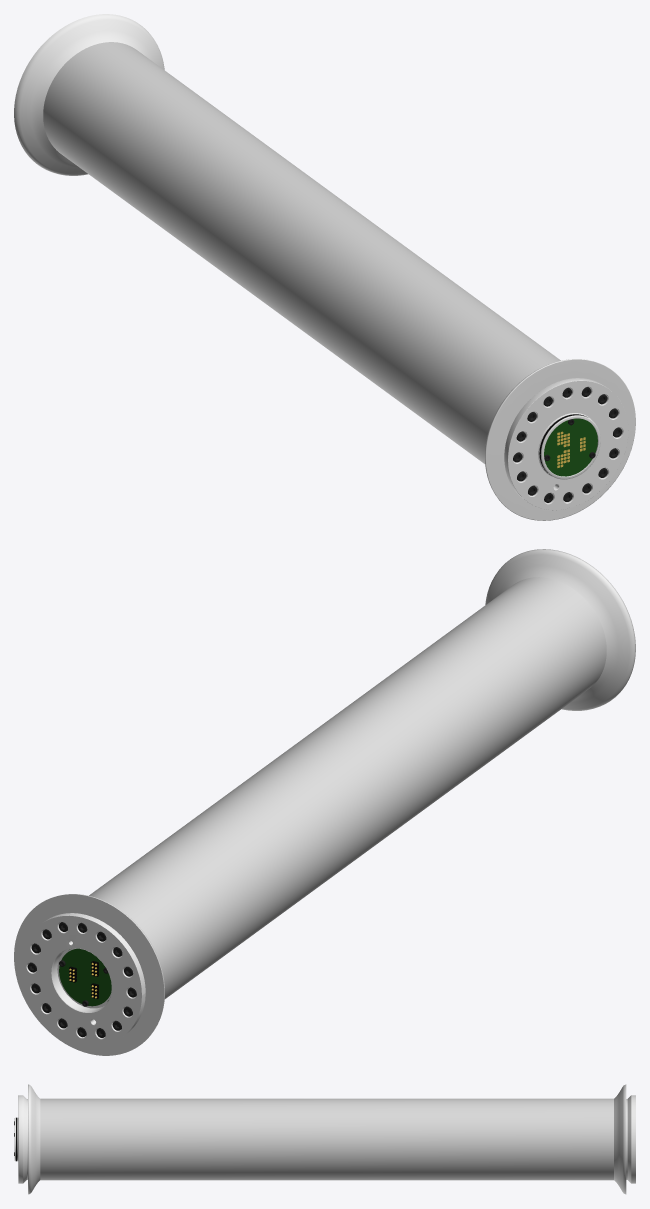
3 views of the same model, one above another, from view 1: azimuth 30°, elevation 25°; view 2: azimuth 150°, elevation 25°; view 3: azimuth 270°, elevation 25° (orthographic). The views are drawn at different scales.
Visible parts, largest first — view 1: I116.001; view 2: I116.001; view 3: I116.001.
Boxes of the visible parts, x1,y1,x2,y2 form: I116.001: [14, 14, 635, 520]; I116.001: [14, 549, 635, 1055]; I116.001: [14, 1084, 635, 1194].
Bounding box in the file's own units: 0.116 × 0.116 × 0.6547.
